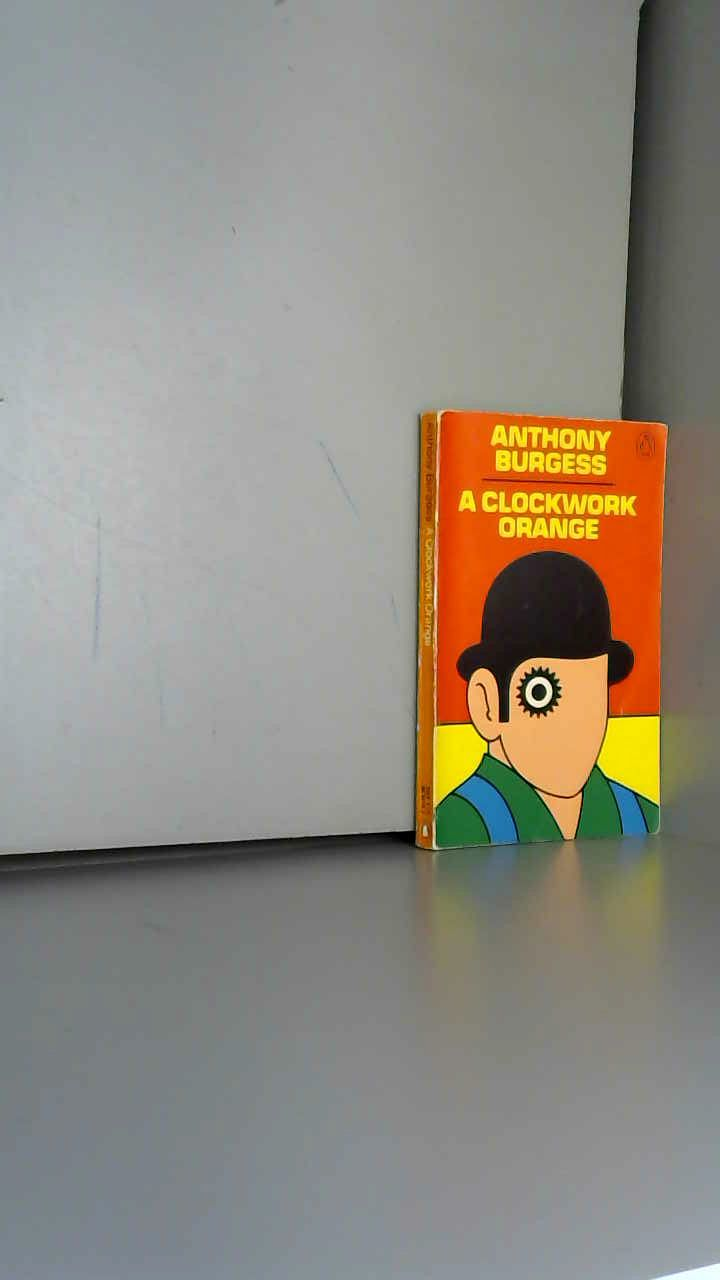book: (390, 380, 720, 889)
